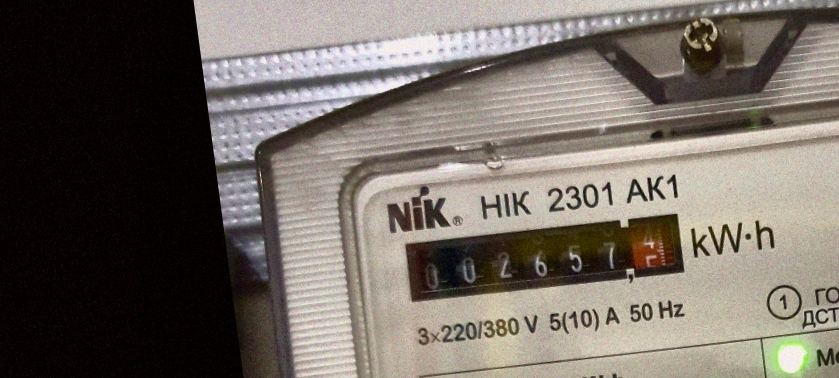0: (421, 259, 441, 290), (458, 252, 477, 284)
2: (494, 248, 514, 279)
4: (638, 222, 656, 250)
5: (565, 241, 585, 273), (642, 251, 659, 267)
6: (530, 246, 548, 278)
7: (601, 237, 619, 270)
screen: (393, 195, 697, 319)
